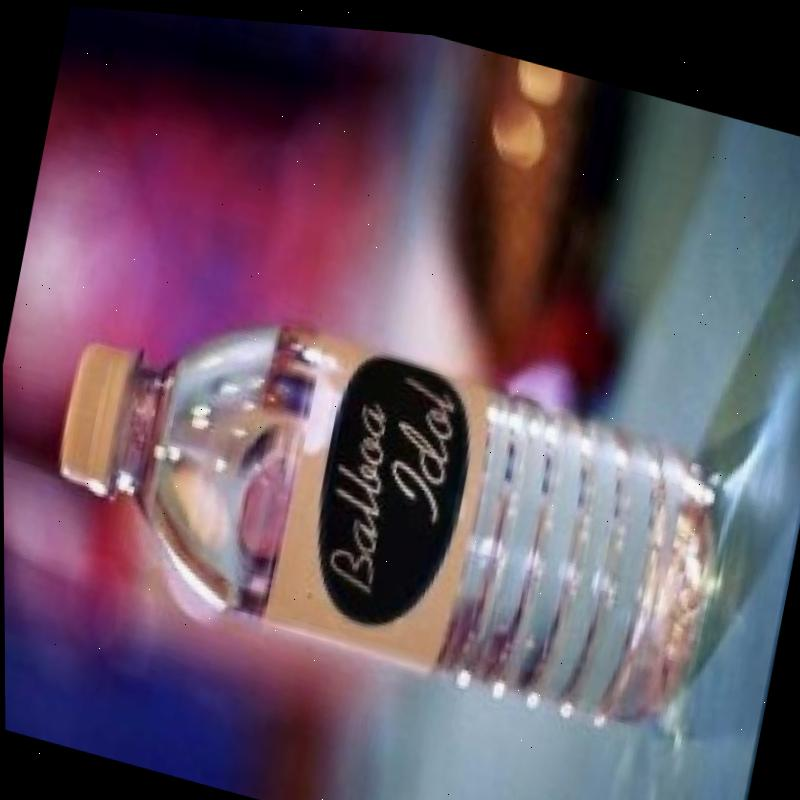botella: (32, 262, 743, 746)
